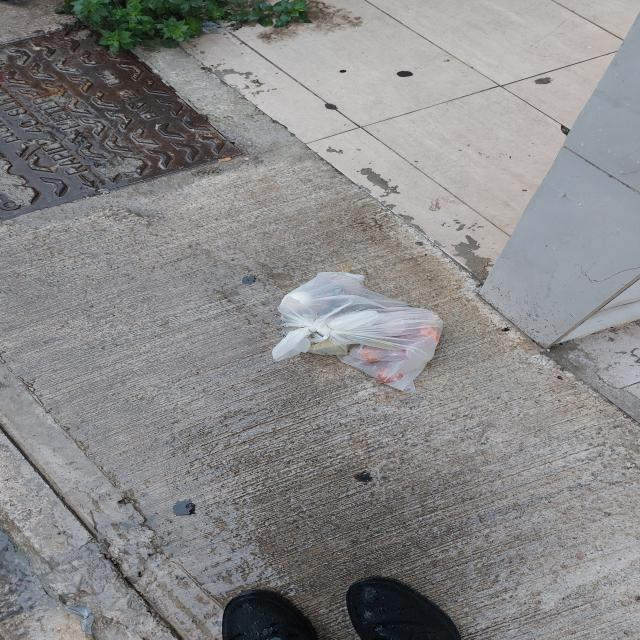Organic Waste -White Bag-: (263, 264, 453, 406)
